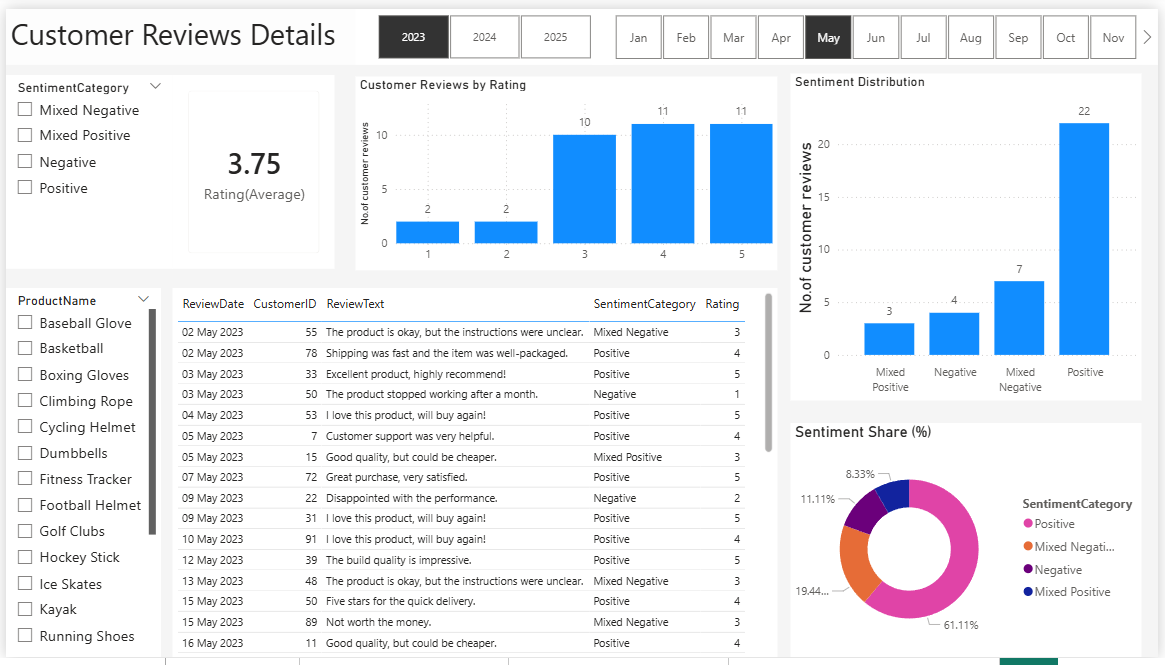

The page's visual inventory and layout, read from the dashboard file:
{"tool":"powerbi","page":{"name":"Customer Reviews Details","canvas":[1280,720],"ordinal":3},"visuals":[{"type":"textbox","box":[0,0,1280,61.7],"z":0},{"type":"slicer","fields":{"Values":["dim_products.ProductName"]},"box":[0,310,171.7,410],"z":1000},{"type":"slicer","fields":{"Values":["Calendar.Year"]},"box":[388.3,0,285,61.7],"z":2000},{"type":"slicer","fields":{"Values":["Calendar.MonthNameShort"]},"box":[652,0,628,62],"z":3000},{"type":"cardVisual","fields":{"Data":["_calculations.Rating(average)"]},"box":[185,73.3,180,215],"z":4000},{"type":"clusteredColumnChart","title":"Customer Reviews by Rating","fields":{"Y":["_calculations.No.of customer reviews"],"Category":["fact_customer_reviews_with_sentiment.Rating"]},"box":[388.3,75,468.3,215],"z":5000},{"type":"clusteredColumnChart","title":"Sentiment Distribution","fields":{"Y":["_calculations.No.of customer reviews"],"Category":["fact_customer_reviews_with_sentiment.SentimentCategory"]},"box":[871.7,71.7,390,363.3],"z":6000},{"type":"tableEx","fields":{"Values":["fact_customer_reviews_with_sentiment.ReviewDate","fact_customer_reviews_with_sentiment.CustomerID","fact_customer_reviews_with_sentiment.ReviewText","fact_customer_reviews_with_sentiment.SentimentCategory","fact_customer_reviews_with_sentiment.Rating"]},"box":[185,310,671.7,410],"z":8000},{"type":"slicer","fields":{"Values":["fact_customer_reviews_with_sentiment.SentimentCategory"]},"box":[0,73.3,185,215],"z":9000},{"type":"donutChart","title":"Sentiment Share (%)","fields":{"Category":["fact_customer_reviews_with_sentiment.SentimentCategory"],"Y":["CountNonNull(fact_customer_reviews_with_sentiment.ReviewID)"]},"box":[871.7,460,390,260],"z":9001}]}

Visuals, with their boxes in screenshot pixels (x1, y1, x2, y2), scaled from the page's 1280x720 canvas onto the 1165x665 screenshot:
textbox: bbox(0, 0, 1164, 57)
slicer - dim_products.ProductName: bbox(0, 286, 156, 664)
slicer - Calendar.Year: bbox(353, 0, 613, 57)
slicer - Calendar.MonthNameShort: bbox(593, 0, 1164, 57)
cardVisual - _calculations.Rating(average): bbox(168, 68, 332, 266)
"Customer Reviews by Rating" clusteredColumnChart: bbox(353, 69, 780, 268)
"Sentiment Distribution" clusteredColumnChart: bbox(793, 66, 1148, 402)
tableEx - fact_customer_reviews_with_sentiment.ReviewDate x fact_customer_reviews_with_sentiment.CustomerID: bbox(168, 286, 780, 664)
slicer - fact_customer_reviews_with_sentiment.SentimentCategory: bbox(0, 68, 168, 266)
"Sentiment Share (%)" donutChart: bbox(793, 425, 1148, 664)
